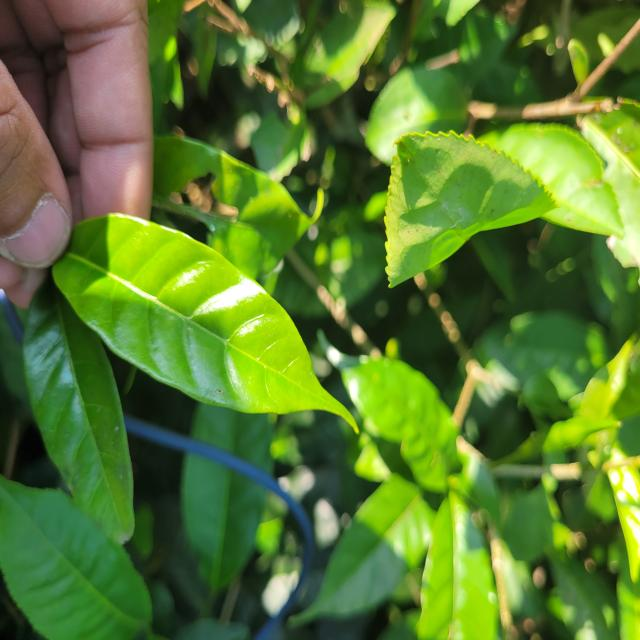Catagory A(1-2 days): (48, 199, 367, 458)
